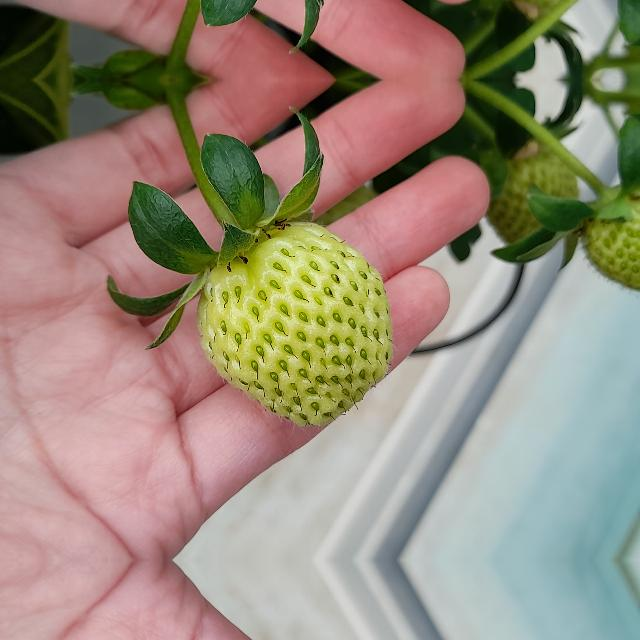Health_25: (197, 220, 393, 426), (487, 139, 581, 257), (586, 178, 640, 302)
